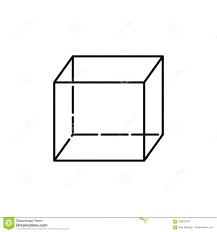cubos: (47, 49, 171, 167)
